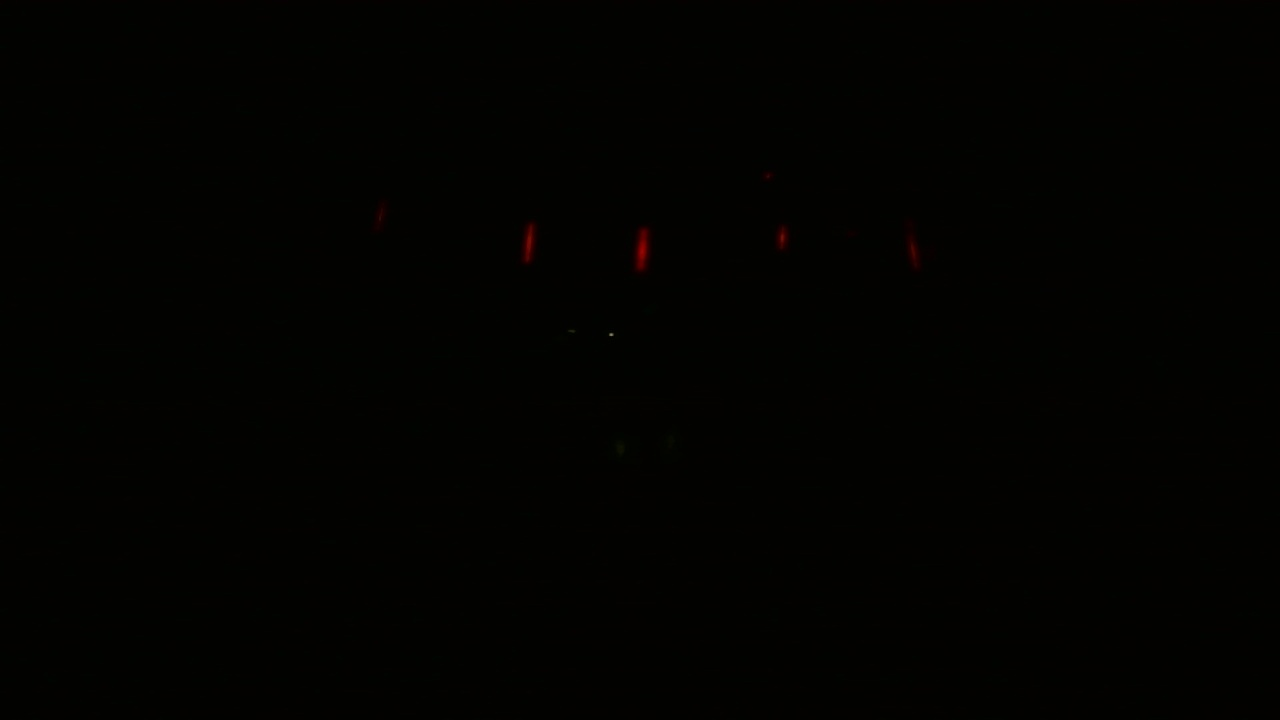pair1: (522, 221, 650, 275)
